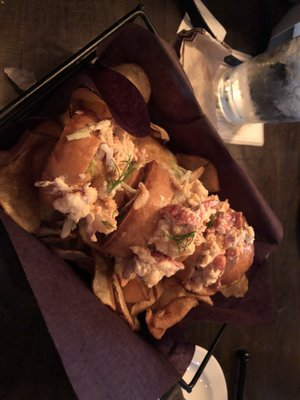sandwich: (28, 70, 258, 346)
